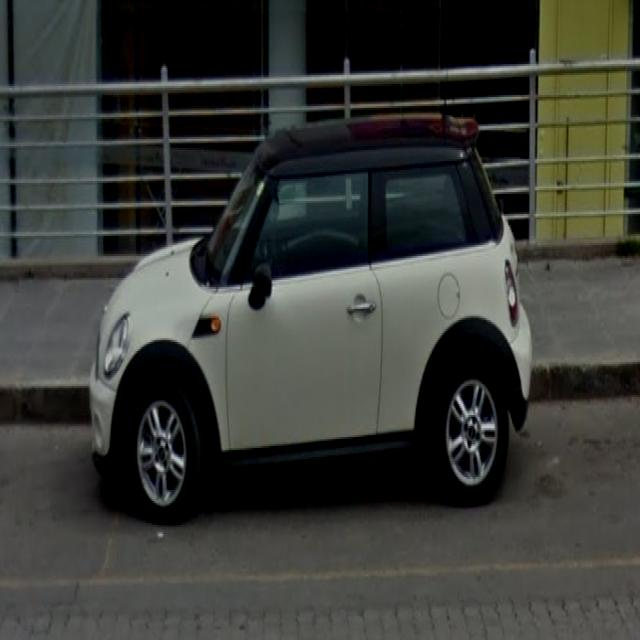car: (95, 106, 535, 528)
